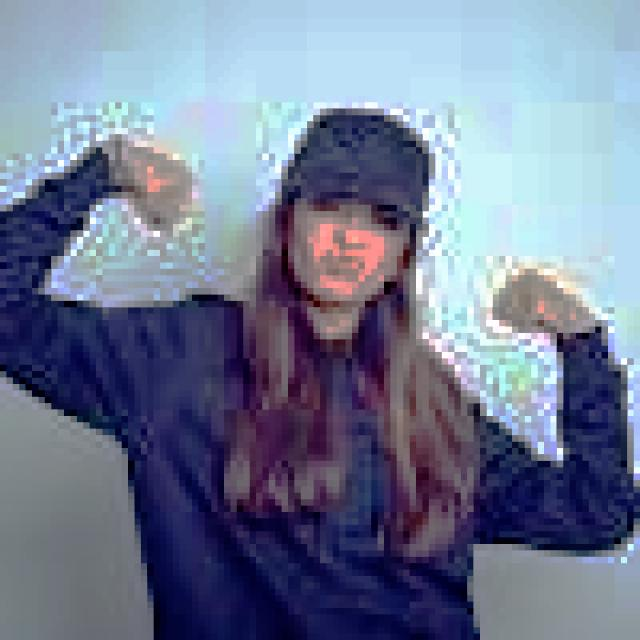TOPI: (269, 96, 435, 224)
